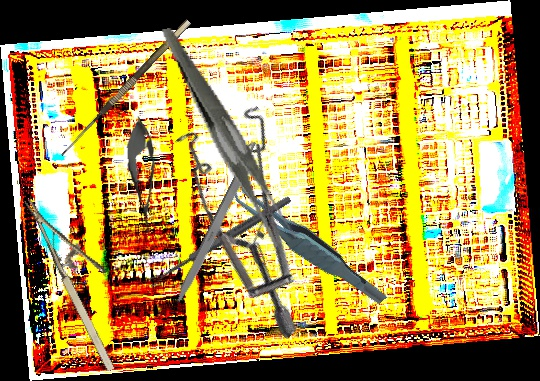Dressing Forceps: (161, 11, 298, 261)
Hook Surgical: (58, 19, 199, 164)
Micro Scissor: (122, 114, 163, 238)
Needle Holder: (24, 182, 144, 375)
Scalpel Handle: (172, 140, 263, 308)
Speculum: (130, 82, 389, 340)
Surgical Spoon: (146, 194, 293, 288)
Tissue Forceps: (226, 154, 388, 332)
